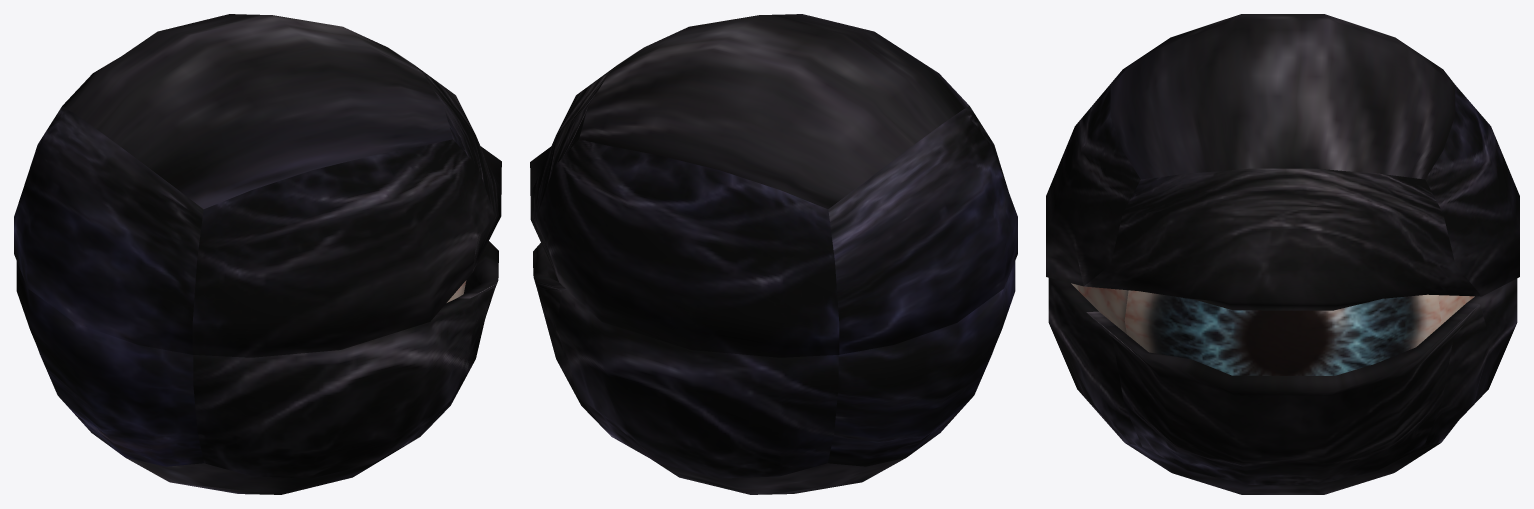
Rendered from Ojo_del_cielo_Animated.glb.
3 renders of one model, left to right at view 1: azimuth 30°, elevation 25°; view 2: azimuth 150°, elevation 25°; view 3: azimuth 270°, elevation 25°, orthographic.
Visible parts, largest first — view 1: UpperEyelid, LowerEyeLid; view 2: UpperEyelid, LowerEyeLid; view 3: UpperEyelid, LowerEyeLid, Eyeball.
Boxes of the visible parts, x1=… form: UpperEyelid: x1=14, y1=14, x2=501, y2=357; LowerEyeLid: x1=16, y1=241, x2=498, y2=494; UpperEyelid: x1=530, y1=14, x2=1017, y2=357; LowerEyeLid: x1=533, y1=243, x2=1015, y2=494; UpperEyelid: x1=1046, y1=14, x2=1519, y2=310; LowerEyeLid: x1=1048, y1=278, x2=1517, y2=494; Eyeball: x1=1071, y1=283, x2=1474, y2=375.
Size of the model in its own units: 1.89 by 1.82 by 1.83.
Materials: 2 (2 with a texture image).
